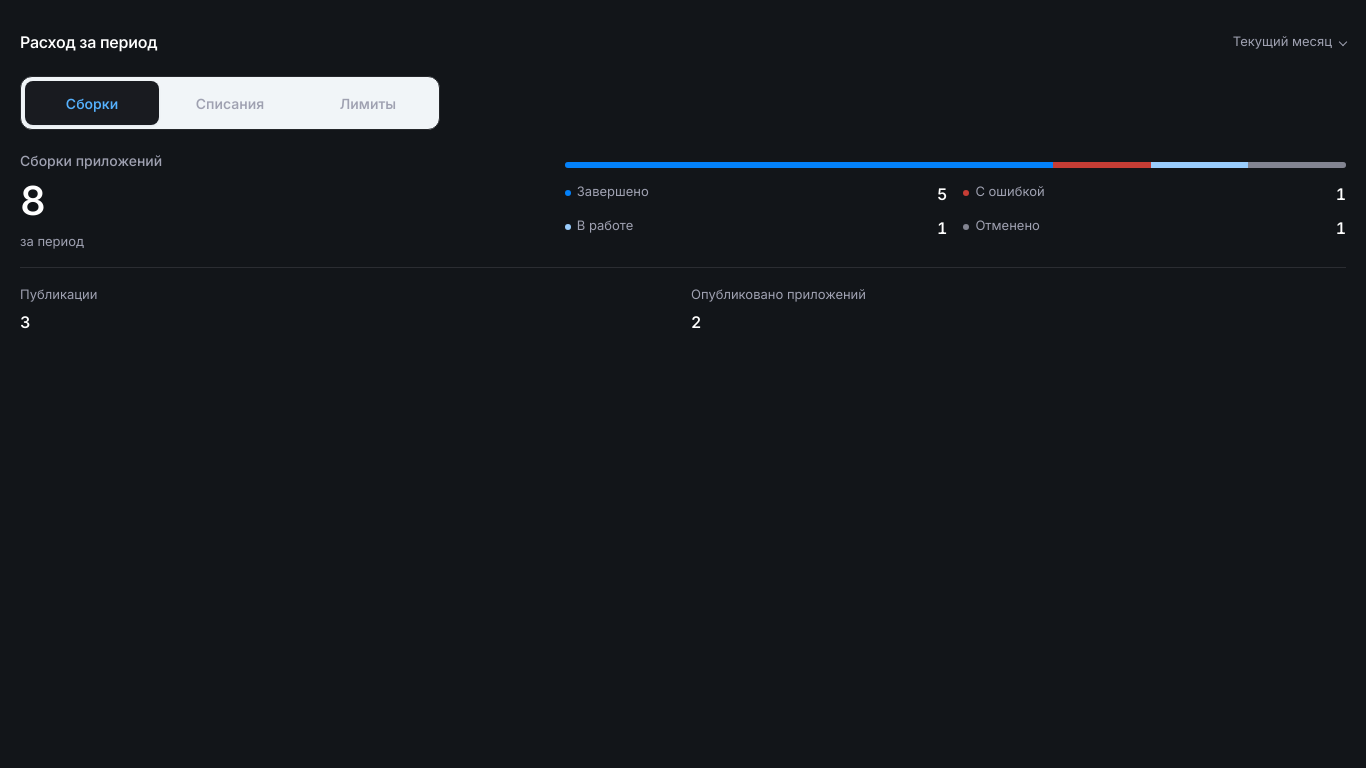
distinguishes zero, unlimited, exceeded and disabled limits without invalid meters
This screenshot has width=1366, height=768.
Step 1. Click the tab "Лимиты" → click(368, 103), box top-left (301, 81), bottom-right (435, 125)
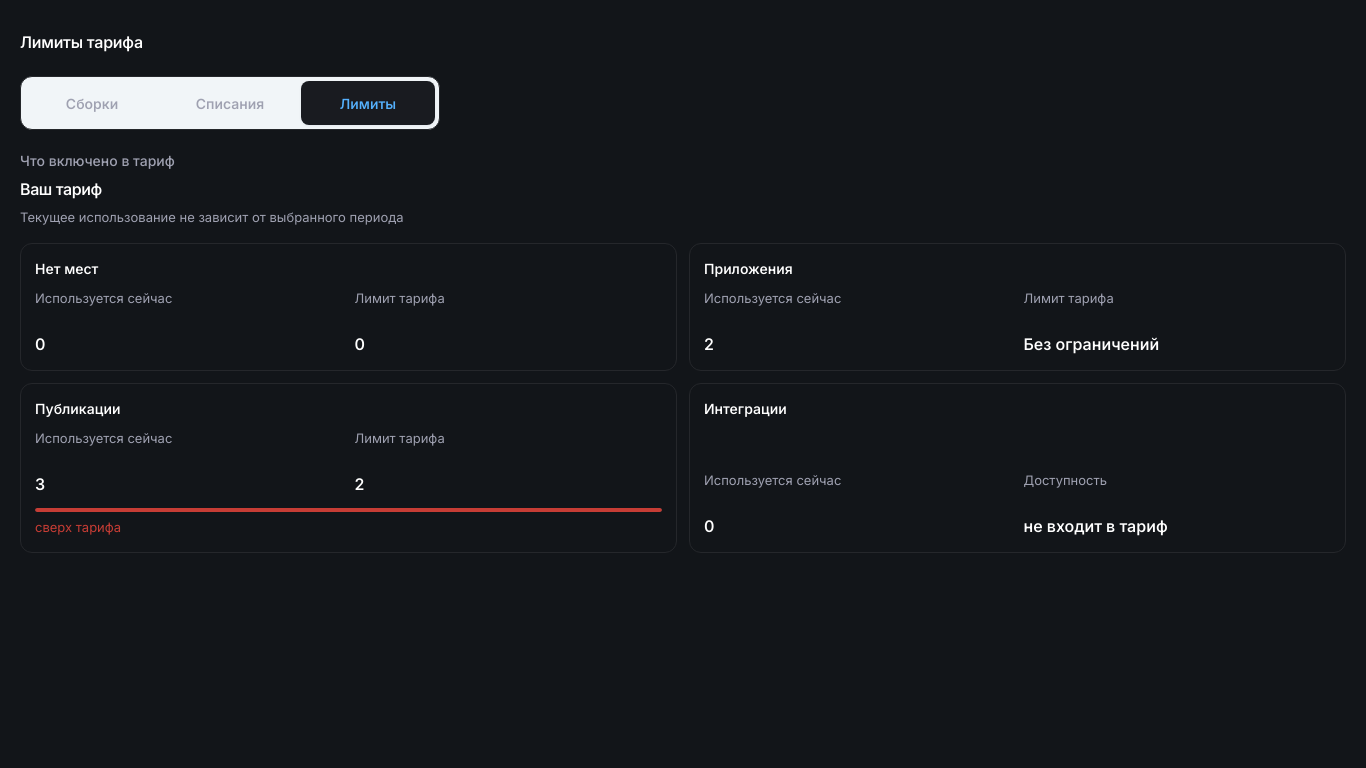
expect the list item "Публикации Используется сейчас 3 Лимит тарифа 2 сверх тарифа" is shown: met, box top-left (20, 383), bottom-right (677, 553)
expect the list item that starts with "Интеграции" shows "не входит в тариф": met, box top-left (1024, 516), bottom-right (1168, 536)
